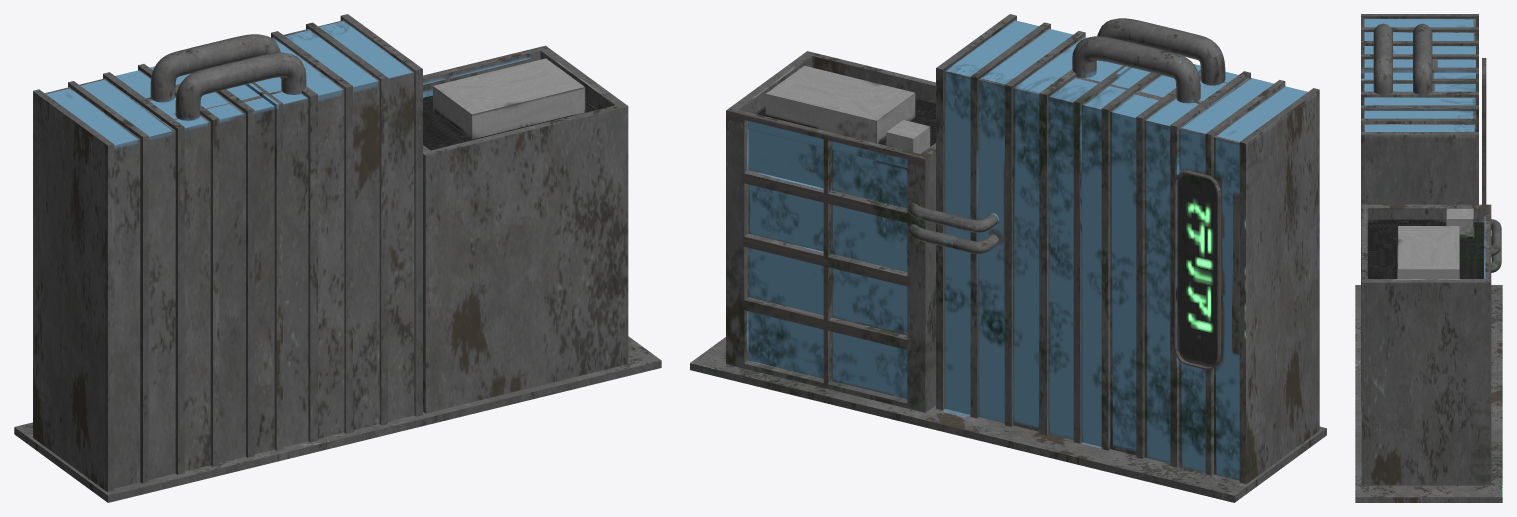
File: BatimentVille_2.fbx
3 views of the same model, side by side, from view 1: azimuth 30°, elevation 25°; view 2: azimuth 150°, elevation 25°; view 3: azimuth 270°, elevation 25° (orthographic). The views are drawn at different scales.
Parts seen in each view (by area): view 1: BatimentsVille_2; view 2: BatimentsVille_2; view 3: BatimentsVille_2.
Part boxes in pixels (x1,y1,x2,y2): BatimentsVille_2: [14, 14, 661, 502]; BatimentsVille_2: [690, 14, 1326, 502]; BatimentsVille_2: [1355, 14, 1502, 502].
Bounding box in the file's own units: 1599 × 1087 × 470.
Materials: 1 (1 with a texture image).
